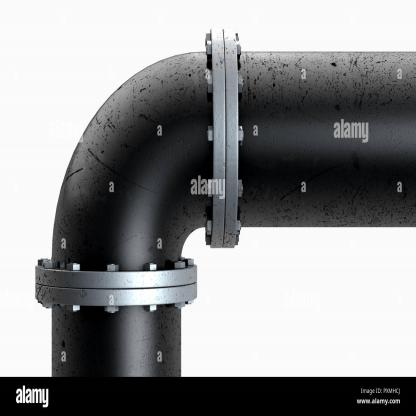PVC: (34, 25, 415, 377)
